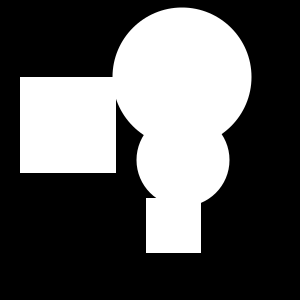circle: (20, 77, 116, 173), (146, 198, 201, 253)
rectangle: (112, 7, 252, 146), (136, 113, 230, 206)
